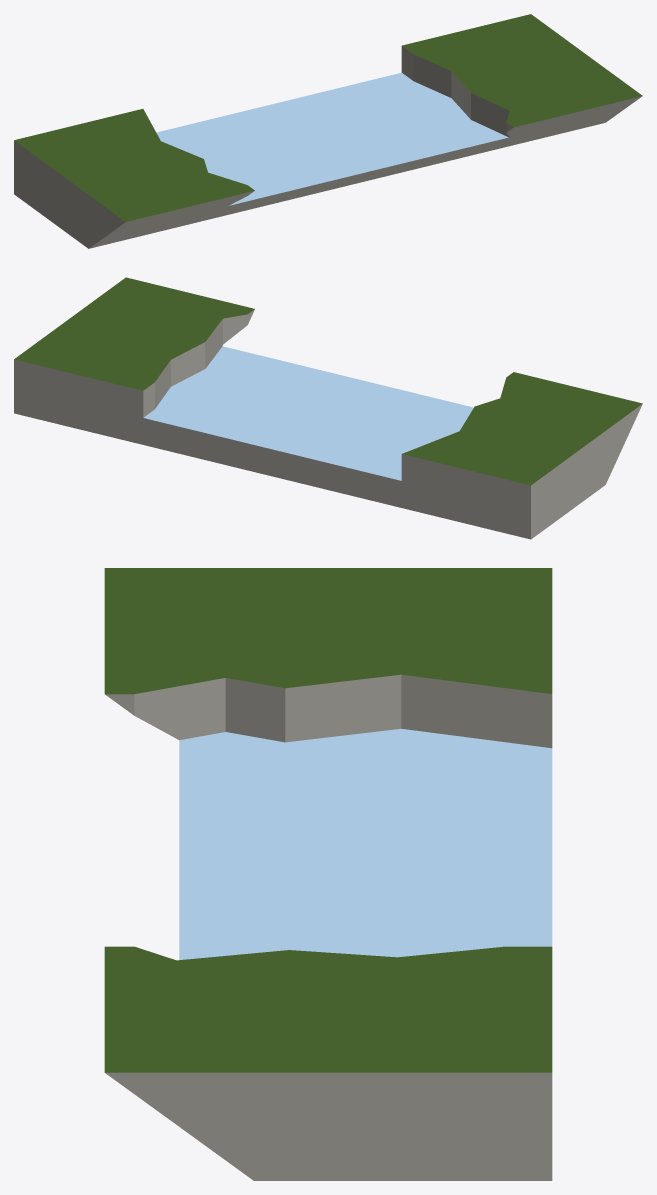
File: Terrain_Modular_Tiles_Grass_Rock_Cliff_Edge_River_Outer_01.fbx
The picture shows the model from 3 angles, top to bottom: view 1: azimuth 30°, elevation 25°; view 2: azimuth 150°, elevation 25°; view 3: azimuth 270°, elevation 25°; orthographic projection. The views are drawn at different scales.
Visible parts, largest first — view 1: Terrain_Modular_Tiles_Grass_Rock_Cliff_Edge_River_Outer_01; view 2: Terrain_Modular_Tiles_Grass_Rock_Cliff_Edge_River_Outer_01; view 3: Terrain_Modular_Tiles_Grass_Rock_Cliff_Edge_River_Outer_01.
Boxes of the visible parts, x1,y1,x2,y2 form: Terrain_Modular_Tiles_Grass_Rock_Cliff_Edge_River_Outer_01: (14,14,642,248); Terrain_Modular_Tiles_Grass_Rock_Cliff_Edge_River_Outer_01: (14,277,642,539); Terrain_Modular_Tiles_Grass_Rock_Cliff_Edge_River_Outer_01: (104,568,552,1180).
Bounding box in the file's own units: 3000 × 300 × 1125.
